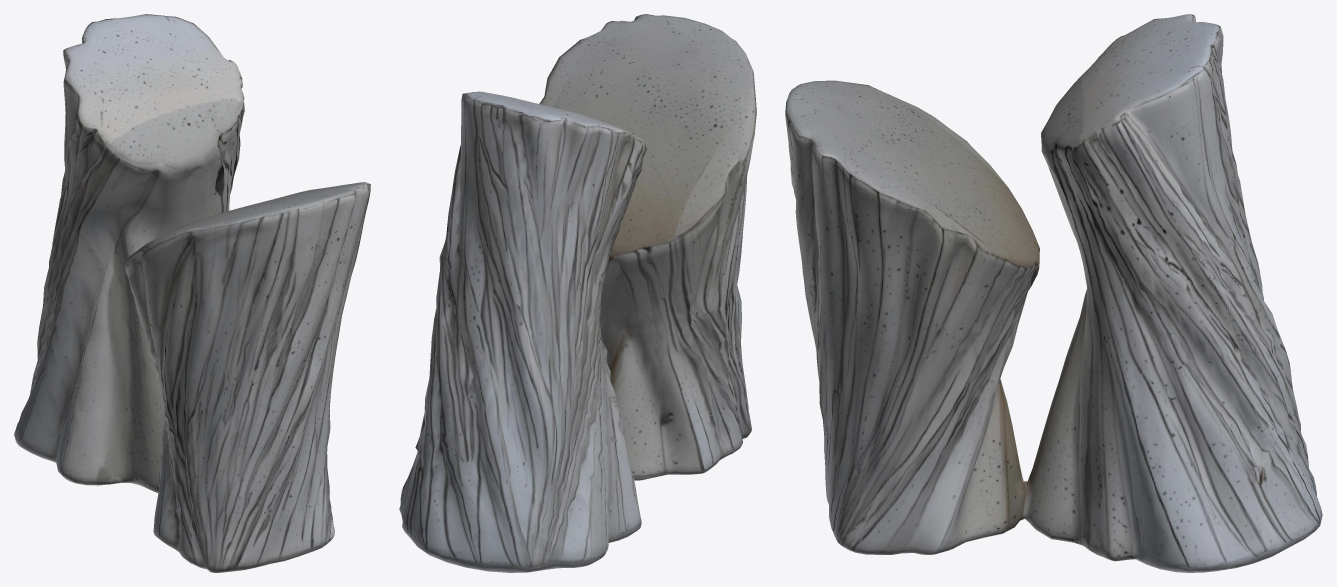
File: salt_and_pepper_4.glb
3 views of the same model, side by side, from view 1: azimuth 30°, elevation 25°; view 2: azimuth 150°, elevation 25°; view 3: azimuth 270°, elevation 25° (orthographic). The views are drawn at different scales.
Parts seen in each view (by area): view 1: tripo_node_debb8de4-eb85-4cb2-befc-c5f0ca1deffe; view 2: tripo_node_debb8de4-eb85-4cb2-befc-c5f0ca1deffe; view 3: tripo_node_debb8de4-eb85-4cb2-befc-c5f0ca1deffe.
Part boxes in pixels (left/top/right/bottom): tripo_node_debb8de4-eb85-4cb2-befc-c5f0ca1deffe: left=14, top=14, right=370, bottom=572; tripo_node_debb8de4-eb85-4cb2-befc-c5f0ca1deffe: left=399, top=14, right=756, bottom=572; tripo_node_debb8de4-eb85-4cb2-befc-c5f0ca1deffe: left=785, top=14, right=1322, bottom=572.
Bounding box in the file's own units: 0.5021 × 0.9449 × 0.9459.
Materials: 1 (1 with a texture image).
